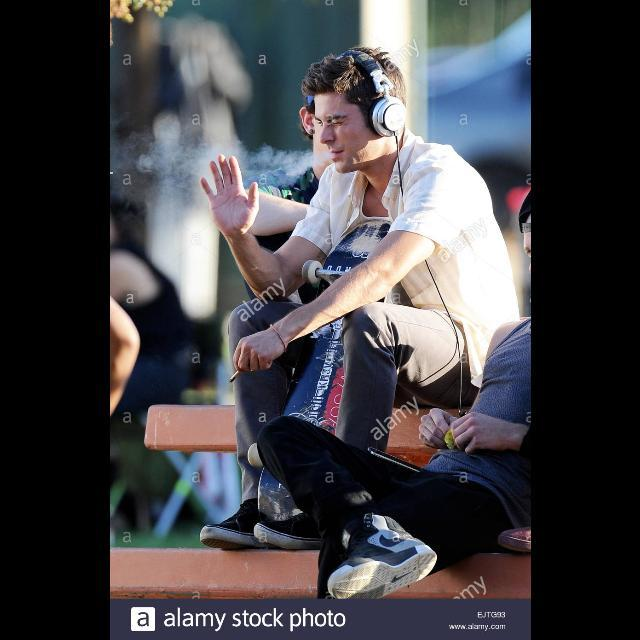rokok: (223, 366, 245, 382)
